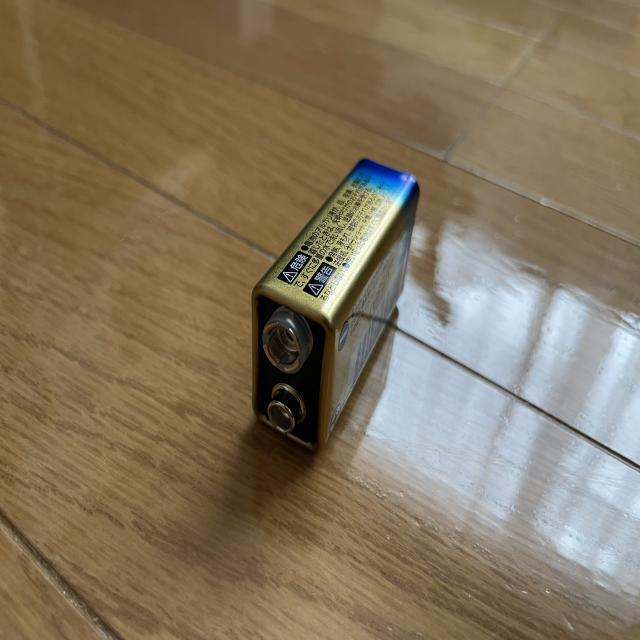9V: (250, 158, 422, 452)
